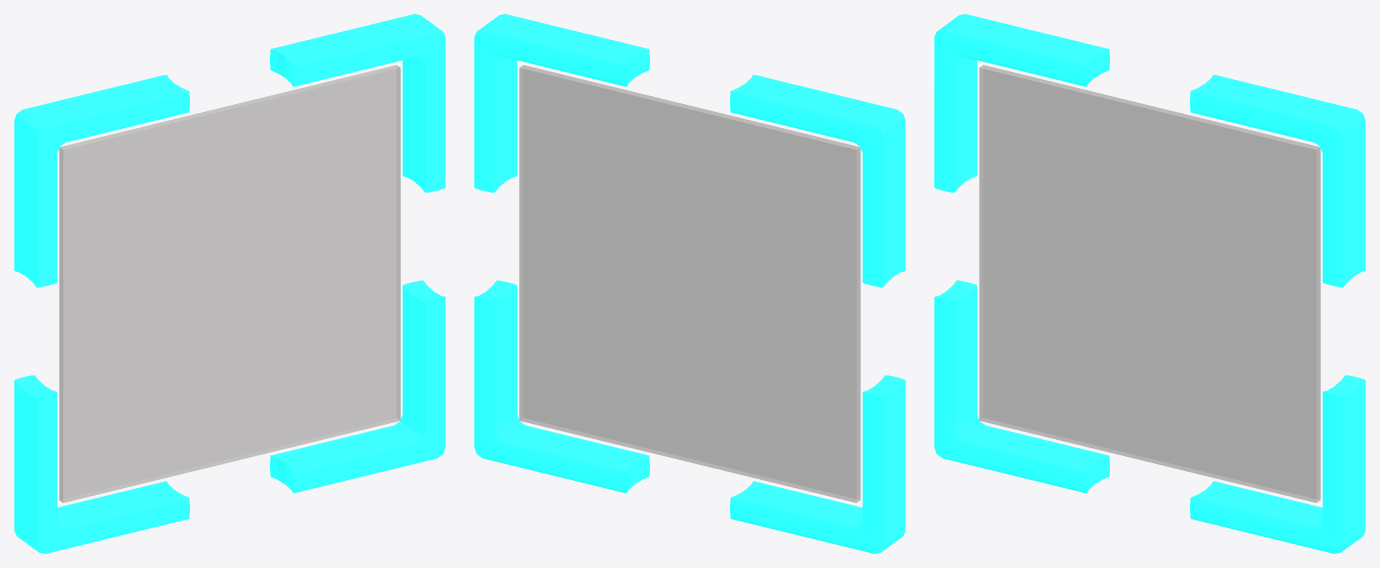
File: baseMirror.gltf
3 renders of one model, left to right at view 1: azimuth 30°, elevation 25°; view 2: azimuth 150°, elevation 25°; view 3: azimuth 330°, elevation 25°, orthographic.
Visible parts, largest first — view 1: Cube.033, Cube.034; view 2: Cube.033, Cube.034; view 3: Cube.033, Cube.034.
Boxes of the visible parts, x1,y1,x2,y2 form: Cube.033: (59, 65, 400, 502); Cube.034: (14, 14, 445, 553); Cube.033: (519, 65, 860, 502); Cube.034: (474, 14, 905, 553); Cube.033: (979, 65, 1320, 502); Cube.034: (934, 14, 1365, 553).
Size of what is drawn, in the model's own units: 2 by 2 by 0.2.
